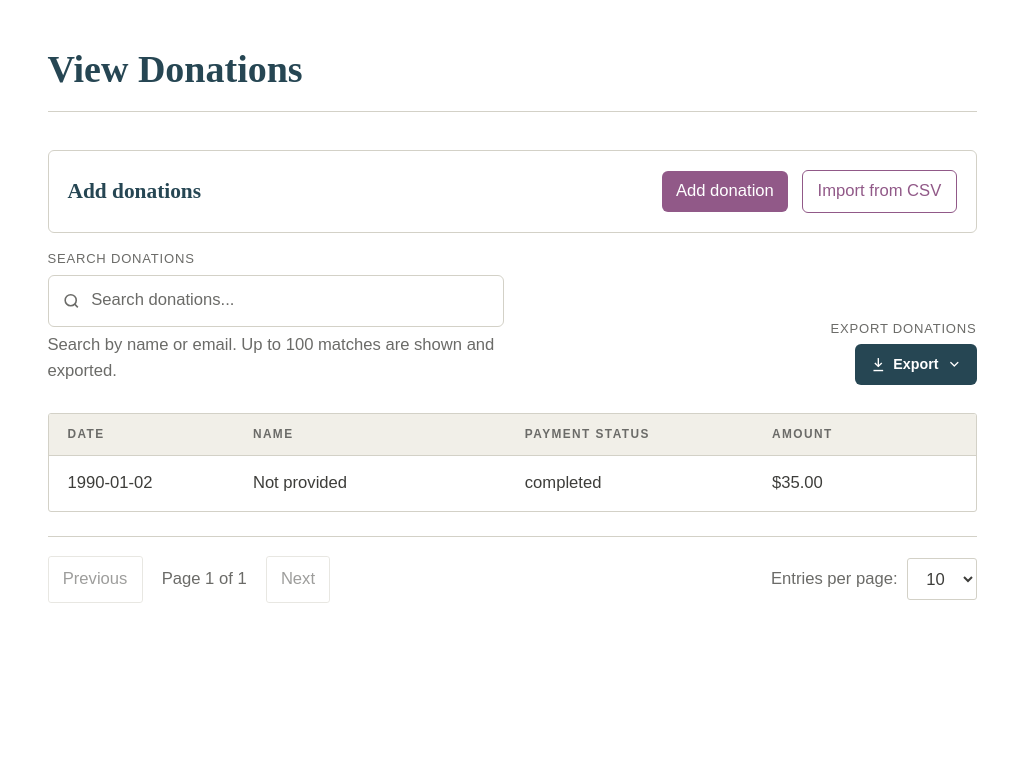
donation page manual-entry dialog › shows the donations table with a compact entry toolbar before import is opened
Expected: the search field is shown, [48,274,504,327]
Expected: the button "Download donation CSV template" is not shown
Step 1. Click the button "Import from CSV" → (879, 192), box [802,170,956,213]
(page scrolled)
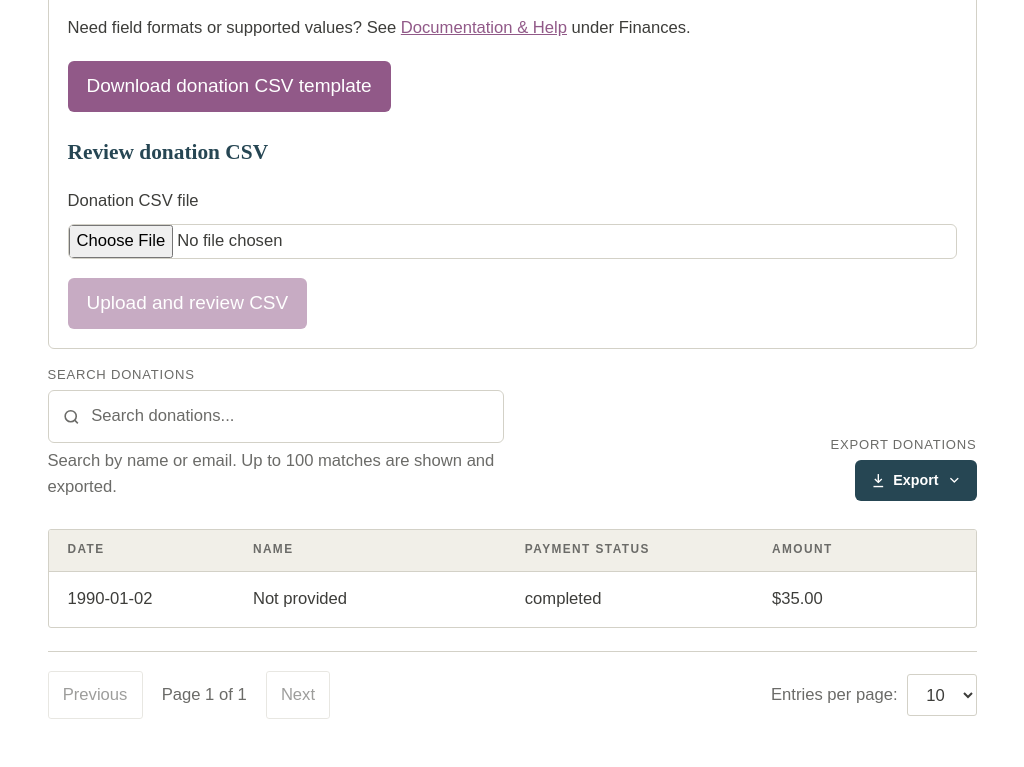
Expected: the table is shown, [48,530,976,627]
Expected: the button "Download donation CSV template" is shown, [68,61,391,112]
